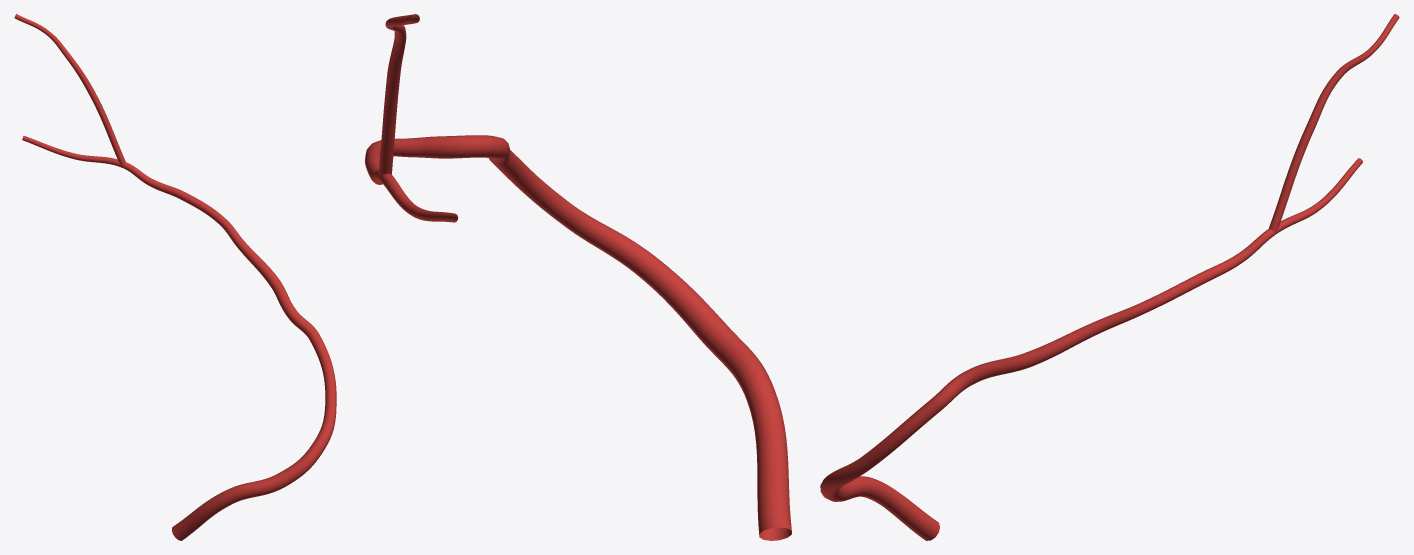
3 renders of one model, left to right at view 1: azimuth 30°, elevation 25°; view 2: azimuth 150°, elevation 25°; view 3: azimuth 270°, elevation 25°, orthographic. The views are drawn at different scales.
Parts seen in each view (by area): view 1: 左侧大脑中动脉颞支; view 2: 左侧大脑中动脉颞支; view 3: 左侧大脑中动脉颞支.
Boxes of the visible parts, x1,y1,x2,y2 form: 左侧大脑中动脉颞支: (14, 14, 336, 540); 左侧大脑中动脉颞支: (365, 14, 791, 540); 左侧大脑中动脉颞支: (820, 14, 1399, 540).
Size of the model in its own units: 0.0268 by 0.067 by 0.0661.
